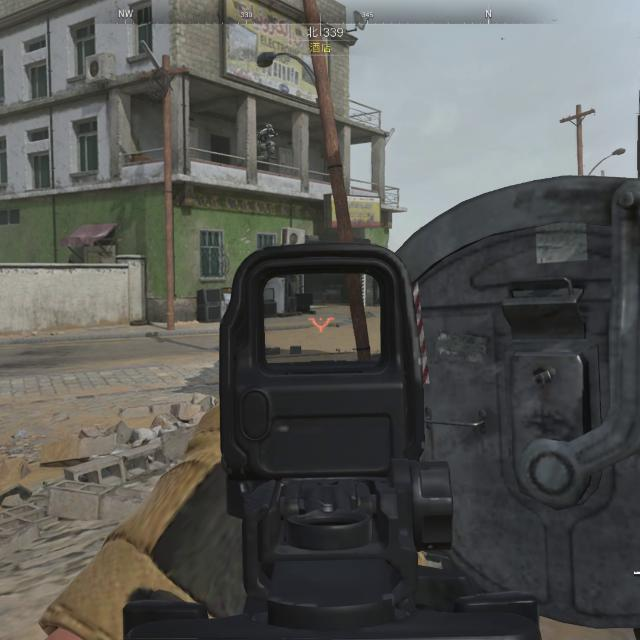MW2_body: (257, 124, 277, 162)
